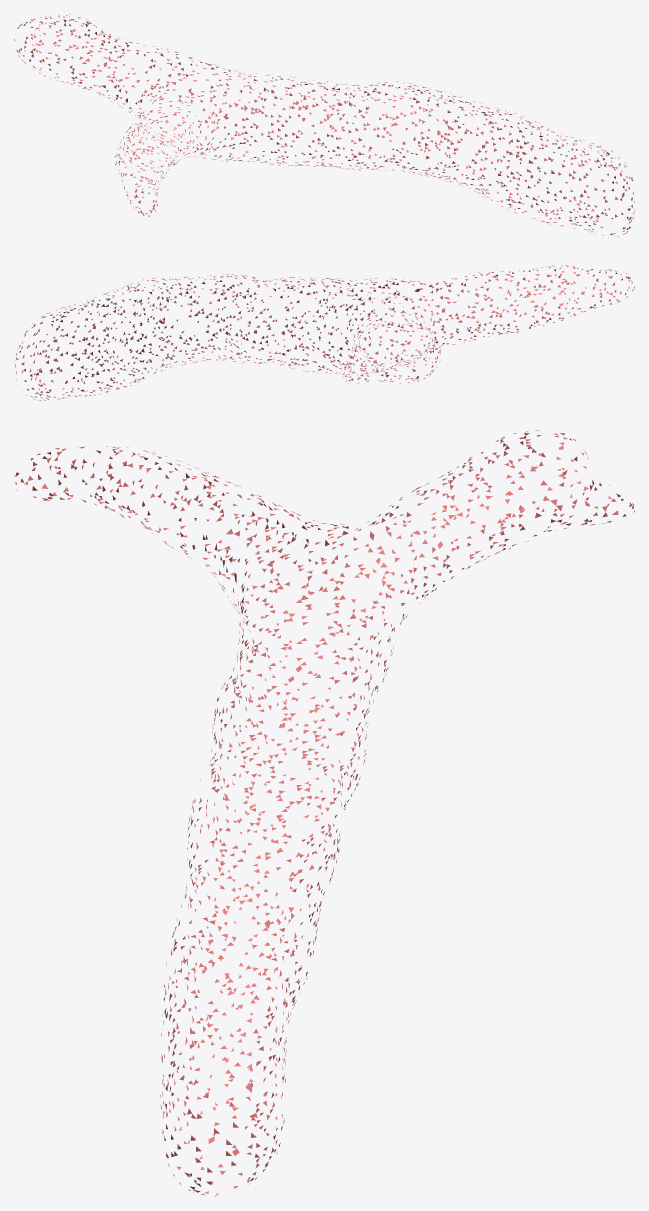
The model's file is morph_000.glb.
3 views of the same model, one above another, from view 1: azimuth 30°, elevation 25°; view 2: azimuth 150°, elevation 25°; view 3: azimuth 270°, elevation 25° (orthographic). The views are drawn at different scales.
Size of the model in its own units: 118 by 51.74 by 73.19.
